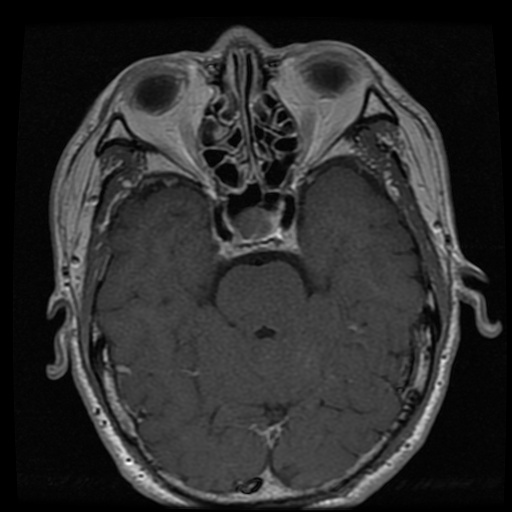pituitary: (231, 207, 282, 243)
